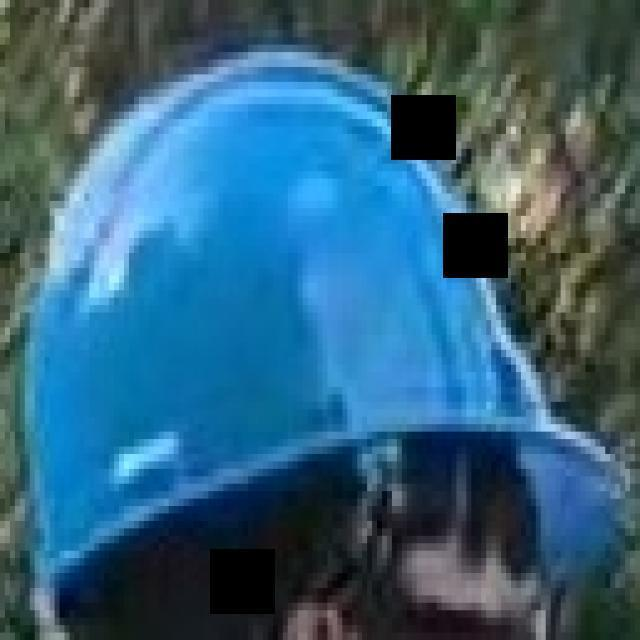blue helmet: (21, 52, 624, 543)
